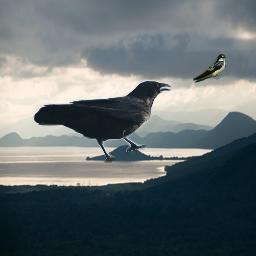Crow: (33, 80, 174, 163)
Swallow: (193, 54, 226, 83)
